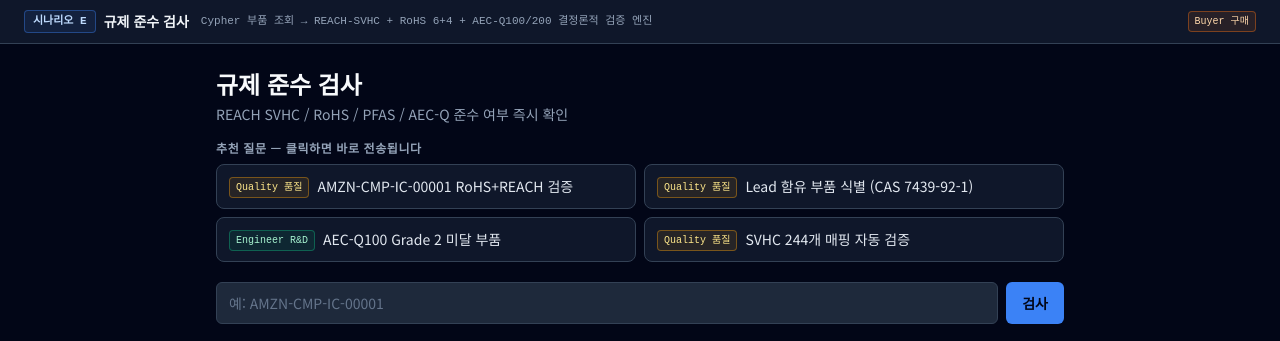
Test case: compliance — status rendering (E) › renders insufficient_data explicitly instead of falling back to the empty state
This screenshot has width=1280, height=341.
Type "AMZN-CMP-IC-00099" into the field with placeholder "예: AMZN-CMP-IC-00001" at coordinates (607, 302), box [216,282,998,324]
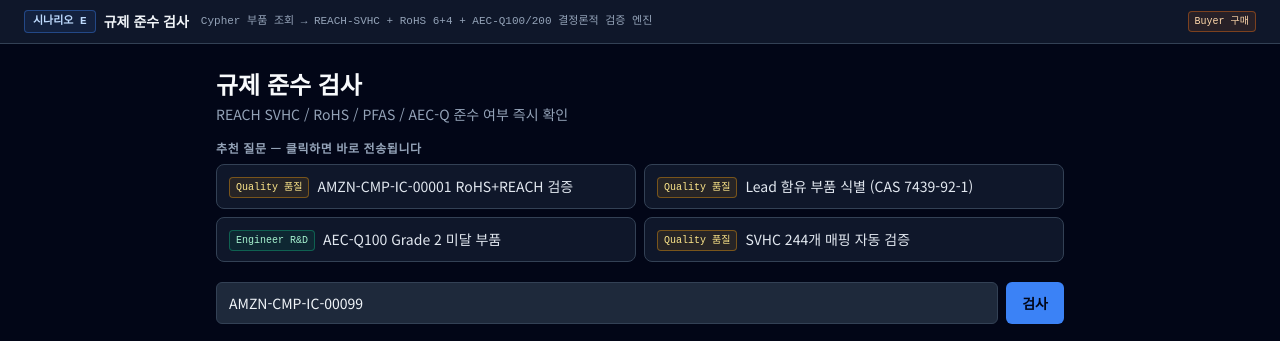
Click the button "검사" at coordinates (1035, 302), box [1006,282,1064,324]
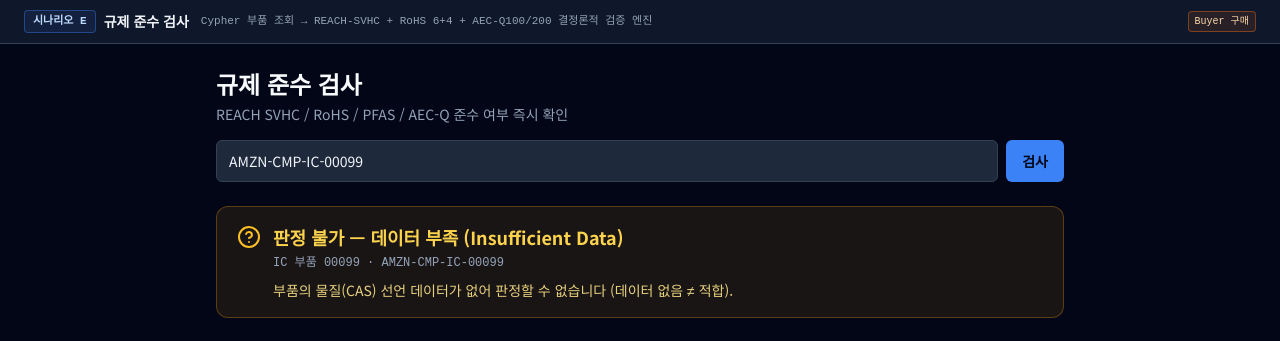
Result: the text "판정 불가 — 데이터 부족 (Insufficient Data)" is shown at [237,224,624,250]
Result: the text "부품의 물질(CAS) 선언 데이터가 없어 판정할 수 없습니다 (데이터 없음 ≠ 적합)." is shown at [273,280,733,300]
Result: the text "IC 부품 00099 · AMZN-CMP-IC-00099" is shown at [273,256,504,270]
